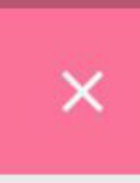ImgButton: (1, 1, 139, 182)
